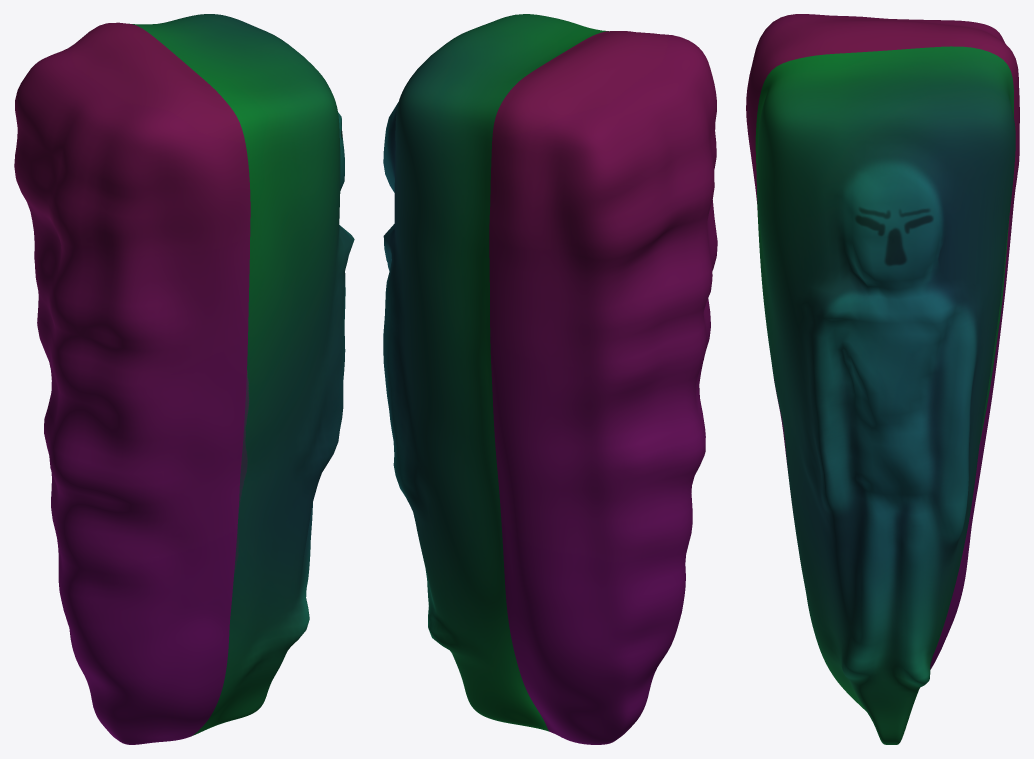
Rendered from icicle_person_done1.fbx.
3 views of the same model, side by side, from view 1: azimuth 30°, elevation 25°; view 2: azimuth 150°, elevation 25°; view 3: azimuth 270°, elevation 25° (orthographic).
Visible parts, largest first — view 1: pCube1; view 2: pCube1; view 3: pCube1.
Part boxes in pixels (x1,y1,x2,y2): pCube1: (14, 14, 354, 744); pCube1: (383, 14, 717, 744); pCube1: (746, 14, 1019, 744).
Size of the model in its own units: 6.5 by 14.58 by 5.37.
